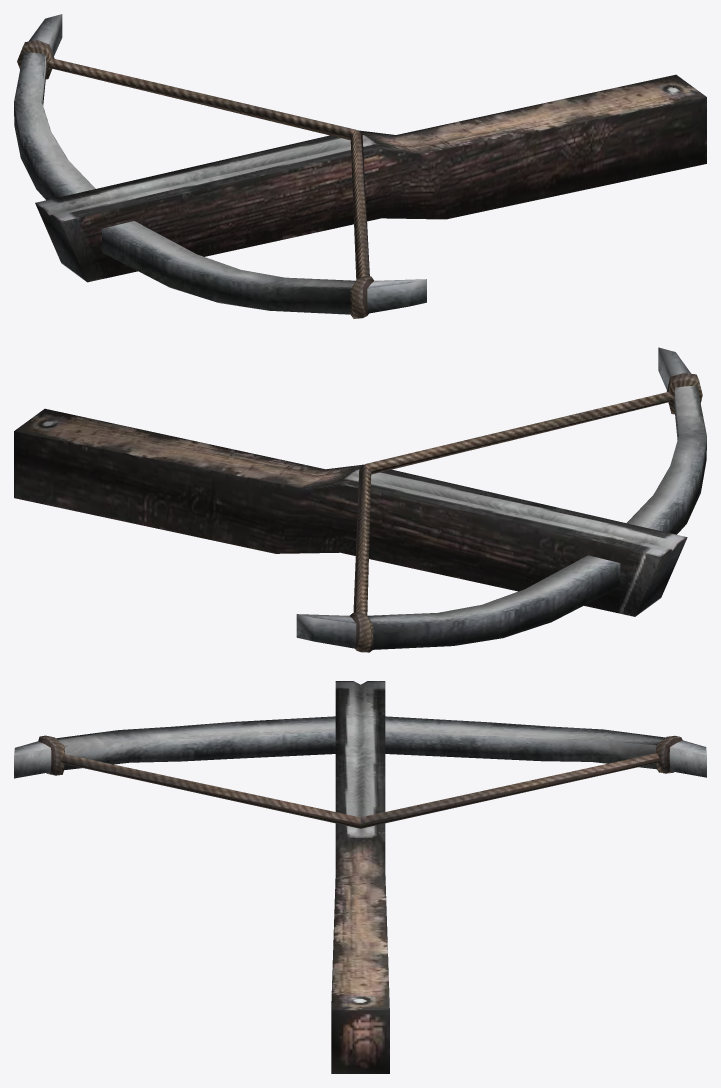
File: CROSSBOW_BLACK_07.glb
The picture shows the model from 3 angles, top to bottom: view 1: azimuth 30°, elevation 25°; view 2: azimuth 150°, elevation 25°; view 3: azimuth 270°, elevation 25°; orthographic projection. The views are drawn at different scales.
Parts seen in each view (by area): view 1: CROSSBOW_BLACK_07; view 2: CROSSBOW_BLACK_07; view 3: CROSSBOW_BLACK_07.
Boxes of the visible parts, box(x1,y1,x2,y2) form: CROSSBOW_BLACK_07: box(14, 14, 706, 318); CROSSBOW_BLACK_07: box(14, 347, 706, 652); CROSSBOW_BLACK_07: box(14, 681, 706, 1073).
Bounding box in the file's own units: 0.6034 × 0.1031 × 0.5891.
Materials: 1 (1 with a texture image).
